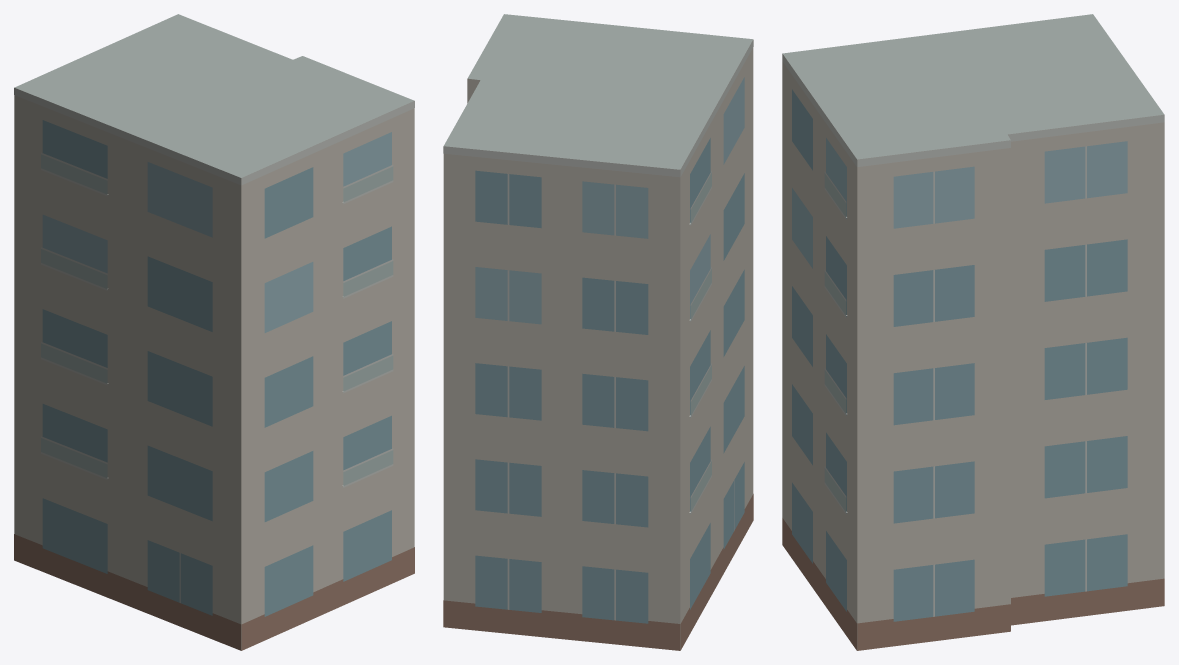
The model's file is survey-upis-32964090.glb.
3 views of the same model, side by side, from view 1: azimuth 30°, elevation 25°; view 2: azimuth 150°, elevation 25°; view 3: azimuth 270°, elevation 25° (orthographic). The views are drawn at different scales.
Visible parts, largest first — view 1: survey-upis-32964090.tmp; view 2: survey-upis-32964090.tmp; view 3: survey-upis-32964090.tmp.
Boxes of the visible parts, bbox=[...] form: survey-upis-32964090.tmp: bbox=[14, 14, 414, 650]; survey-upis-32964090.tmp: bbox=[443, 14, 753, 650]; survey-upis-32964090.tmp: bbox=[782, 14, 1164, 650].
Size of the model in its own units: 9.92 by 15.6 by 11.01.
